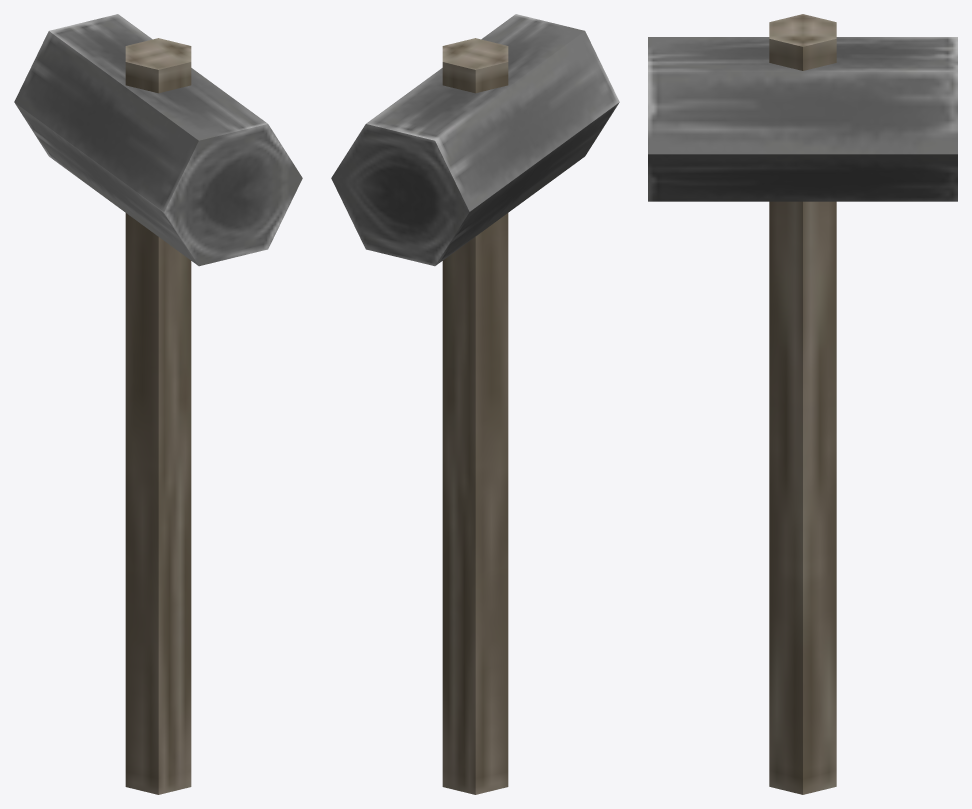
File: Hammer_Geo.fbx
The picture shows the model from 3 angles, left to right: view 1: azimuth 30°, elevation 25°; view 2: azimuth 150°, elevation 25°; view 3: azimuth 270°, elevation 25°; orthographic projection. The views are drawn at different scales.
Visible parts, largest first — view 1: Hammer_Geo; view 2: Hammer_Geo; view 3: Hammer_Geo.
Part boxes in pixels (left/top/right/bottom): Hammer_Geo: left=14, top=14, right=302, bottom=794; Hammer_Geo: left=331, top=14, right=619, bottom=794; Hammer_Geo: left=648, top=14, right=957, bottom=794.
Size of the model in its own units: 7.23 by 36.18 by 13.58.
